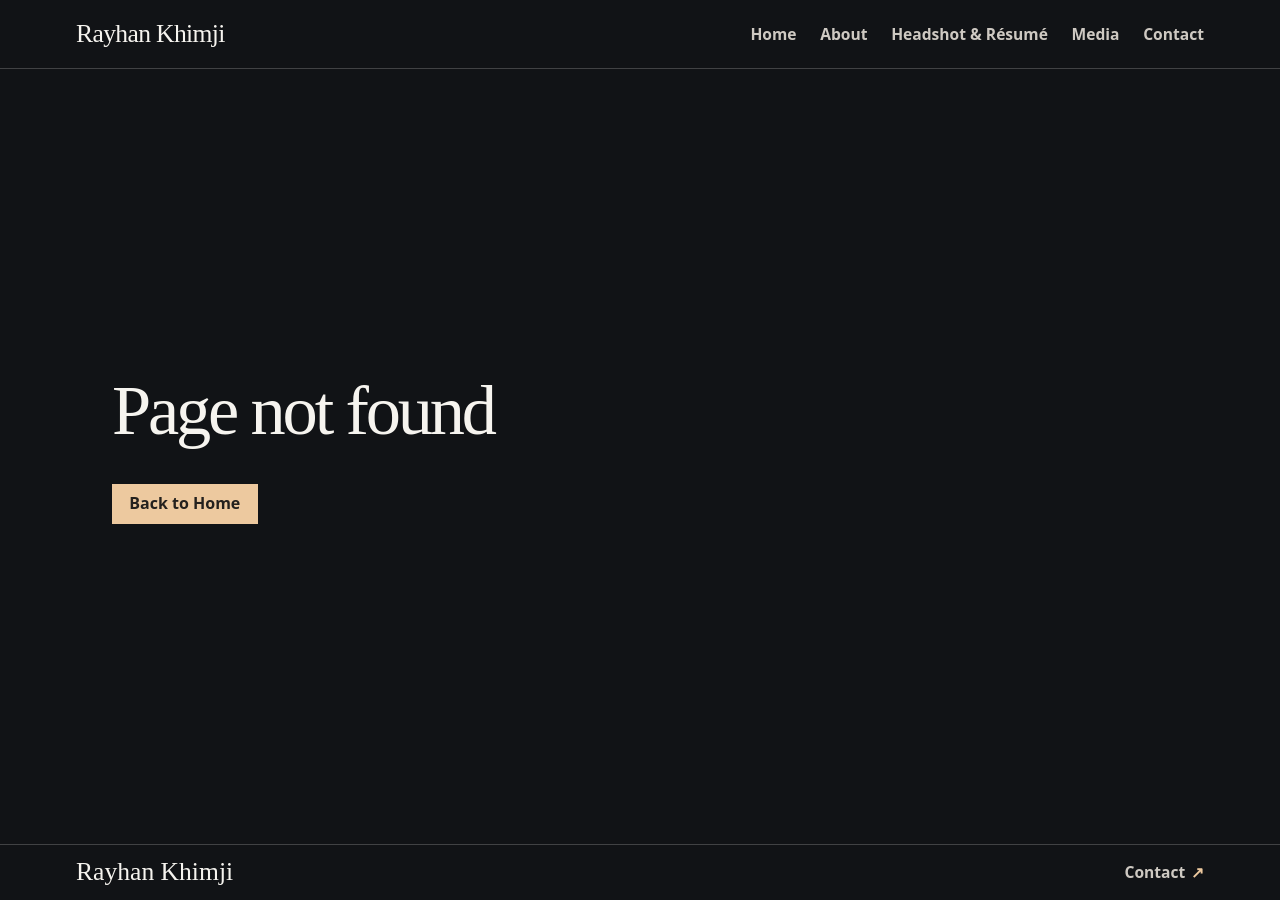
Scenario: portfolio › offers a way back from an unknown route
Expected: the heading "Page not found" is shown, [112,371,494,449]
Click the link "Back to Home".
click(185, 504)  # box [112,484,258,524]
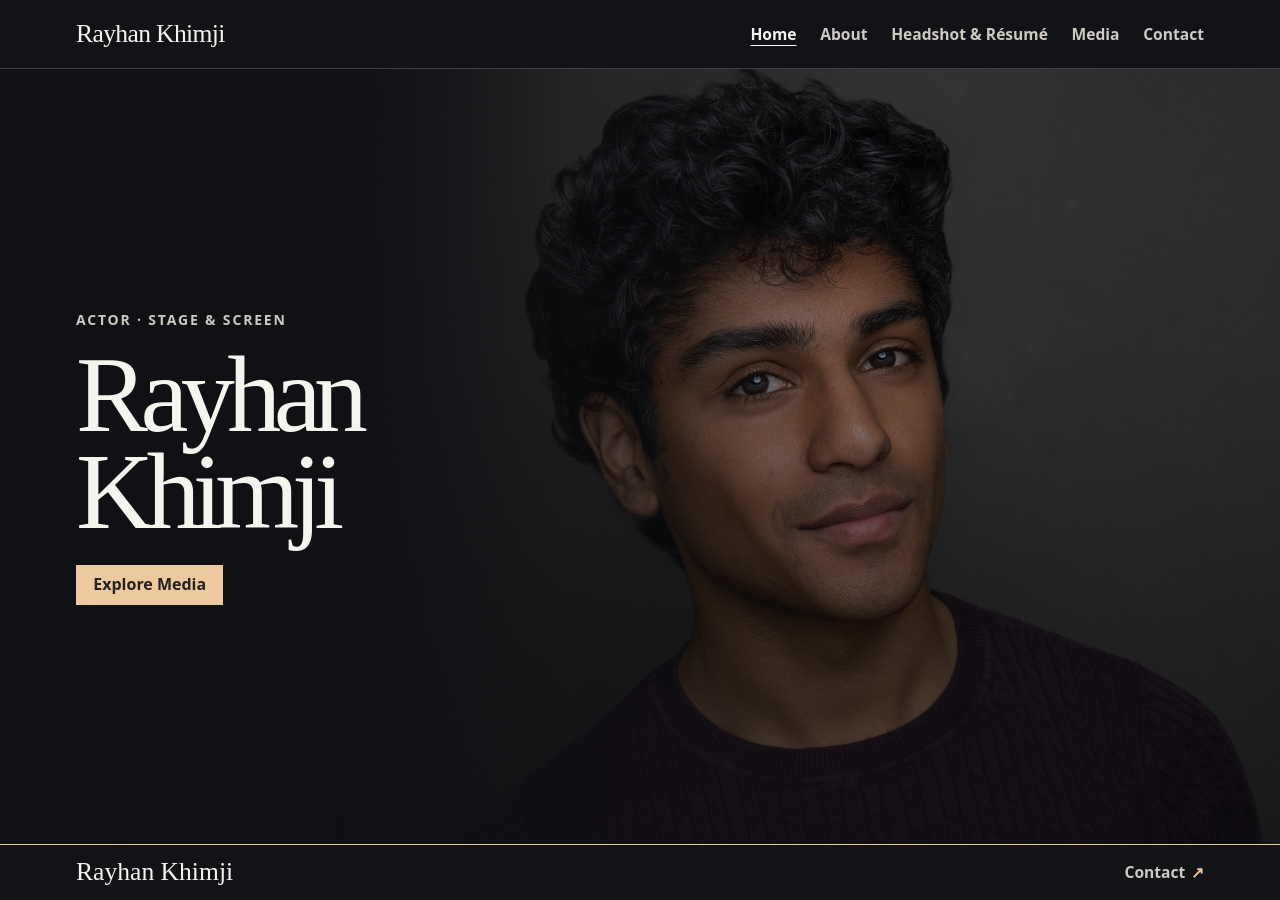
Now the heading "Rayhan Khimji" is shown, box [76,335,360,551]
